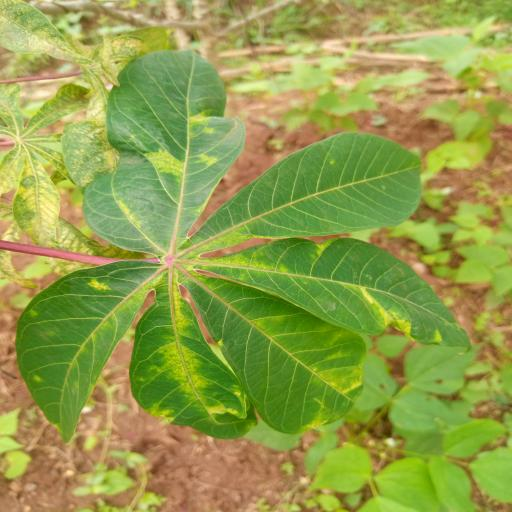Cassava_Mosaic: (11, 42, 453, 450)
